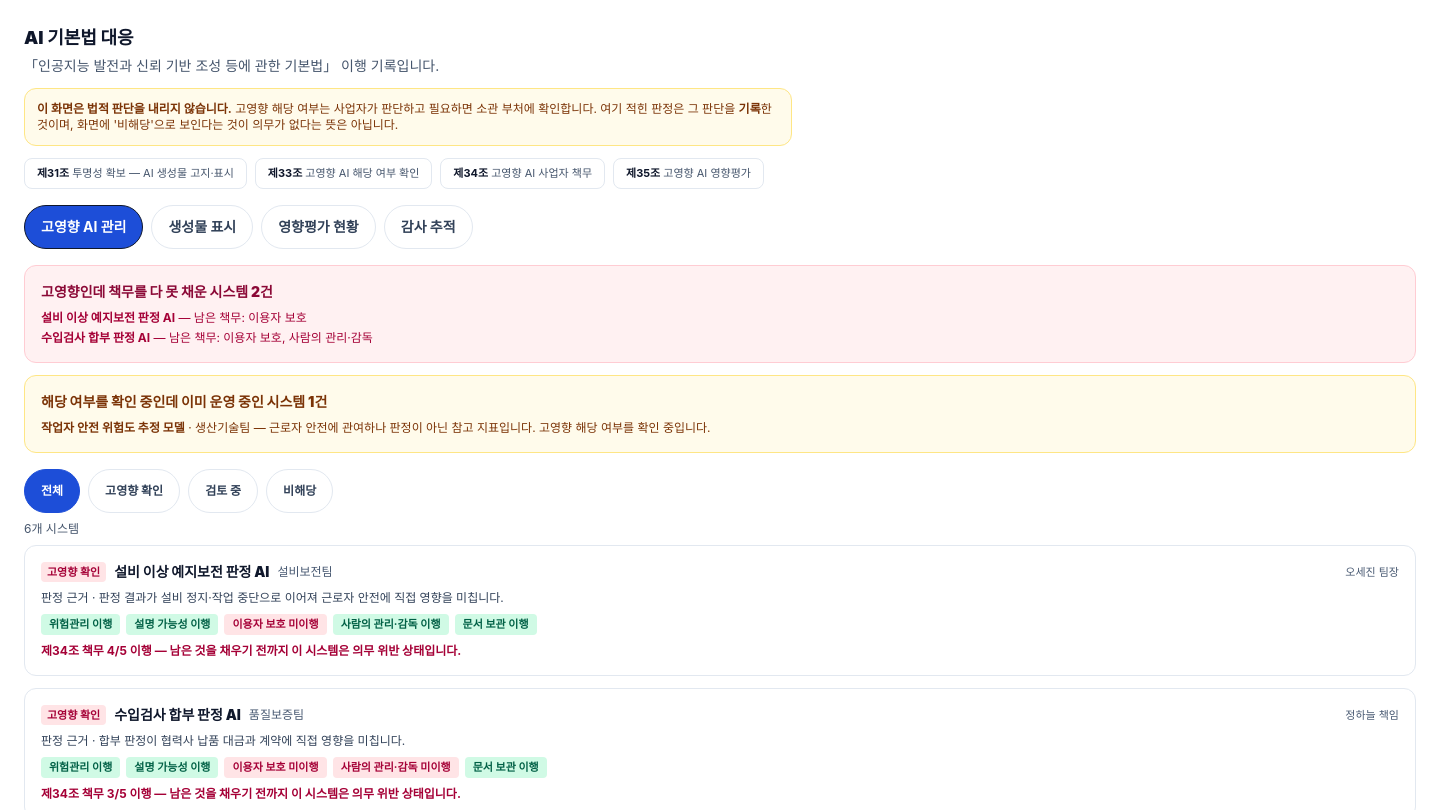
Test: AI 기본법 대응 › 판정 필터가 목록을 실제로 좁힌다
The width and height of the screenshot is (1440, 810).
Expected: the text "6개 시스템" is shown, [24, 520, 79, 536]
Click the radio button labelled "비해당": (300, 490) [266, 468, 333, 512]
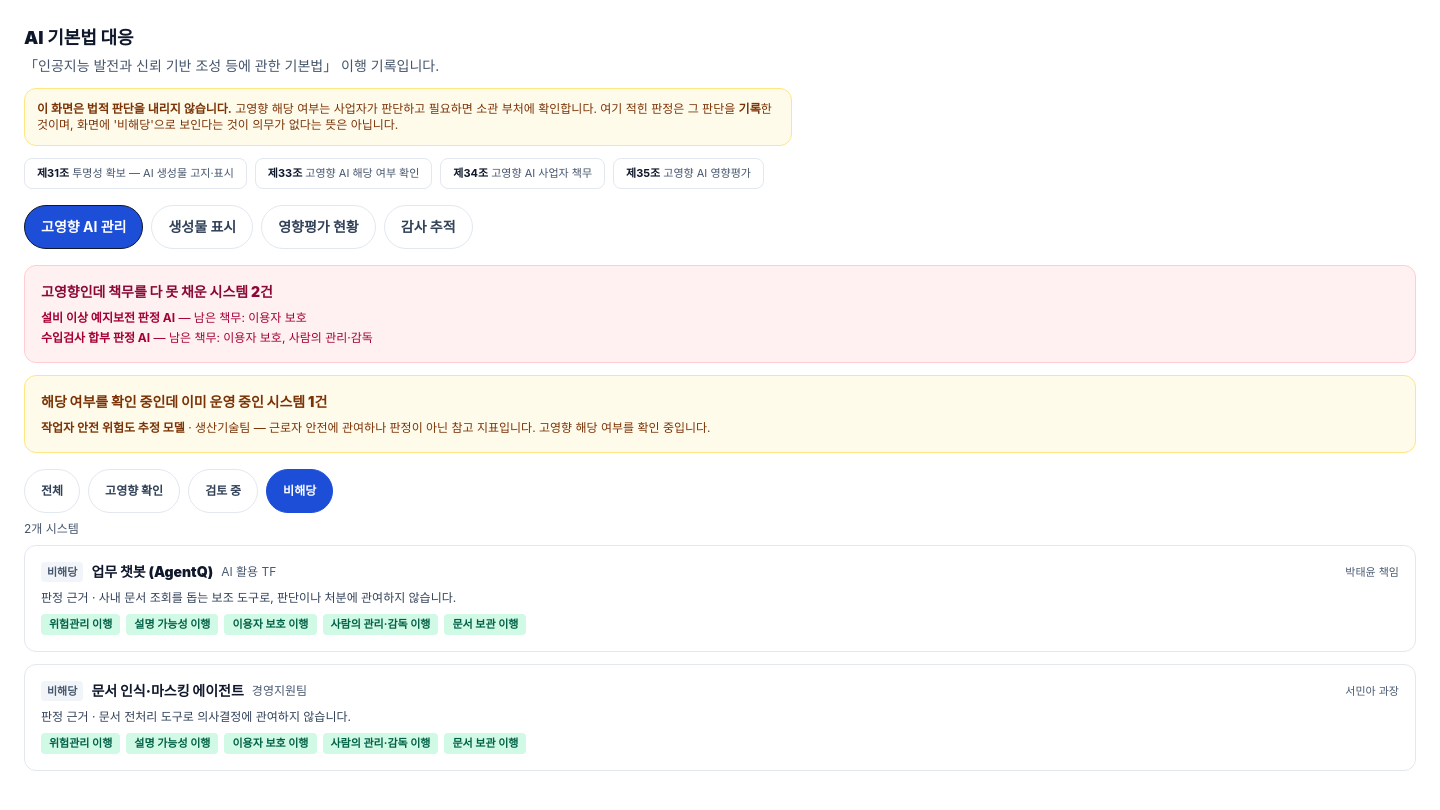
Expected: the text "2개 시스템" is shown, [24, 520, 79, 536]
